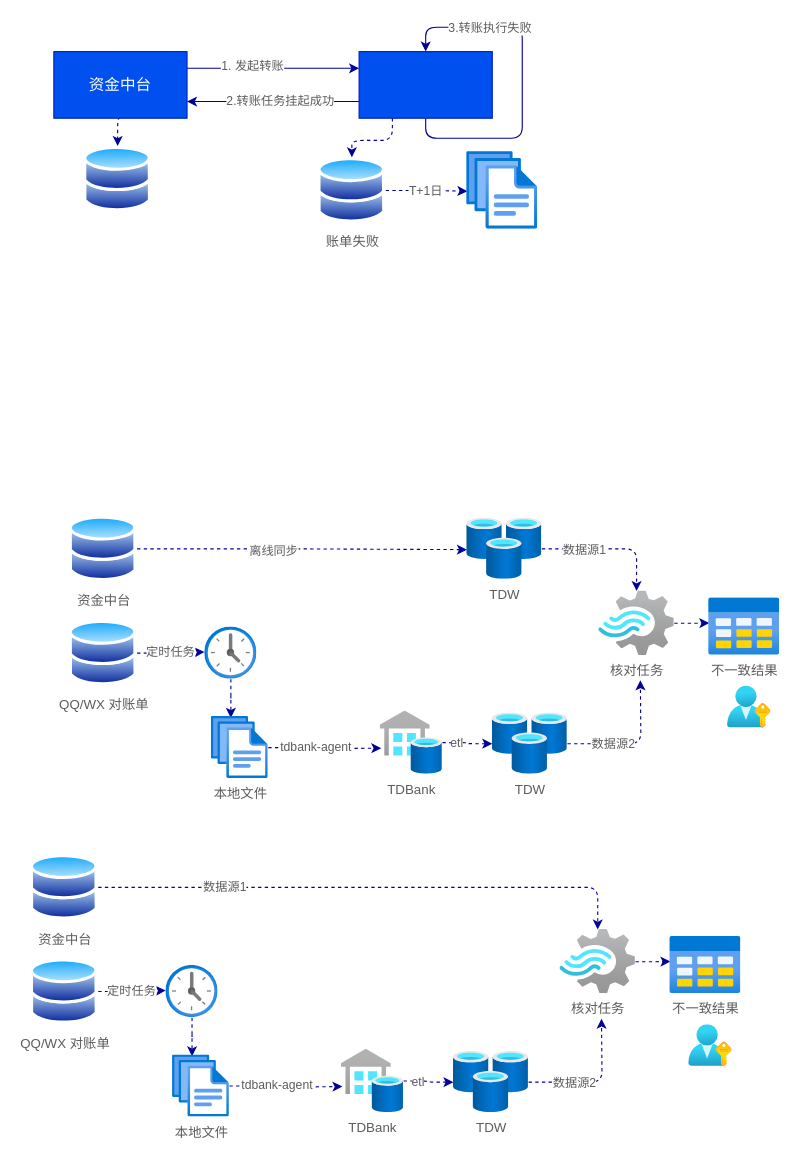
Image size: 798x1160. Some labels were removed from this diagram. Each missing label, with the box of its shape:
QQ / WX支付: (358, 51, 492, 118)
对账单: (466, 151, 537, 229)
账单成功: (83, 145, 151, 212)
